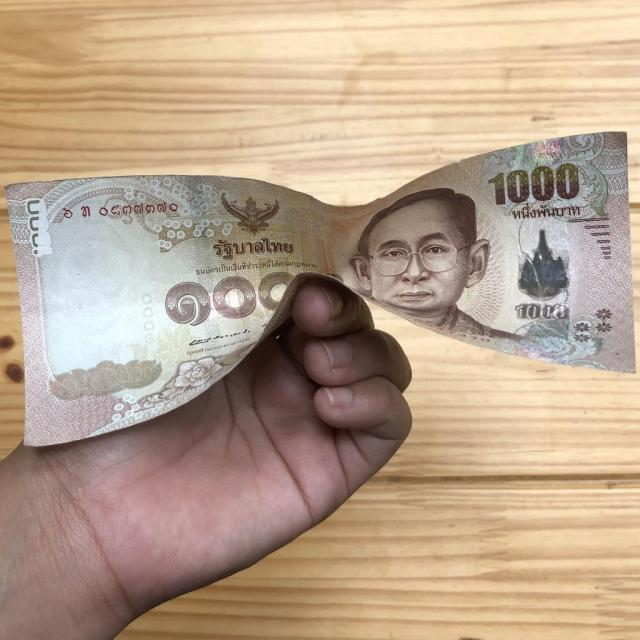THAI1000: (6, 131, 634, 446)
